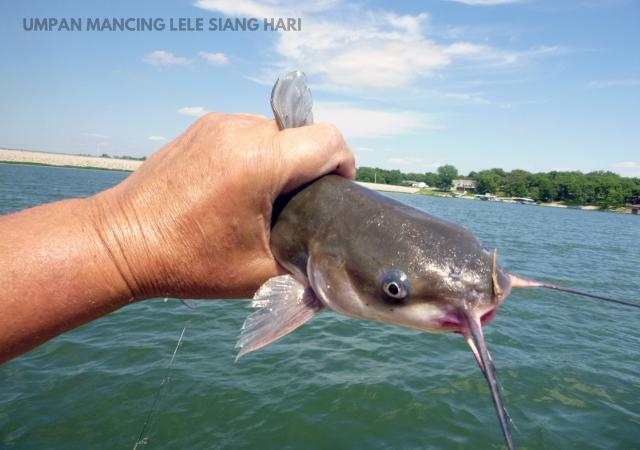Mulut: (438, 253, 550, 361)
Sirip Dada: (200, 260, 348, 380)
